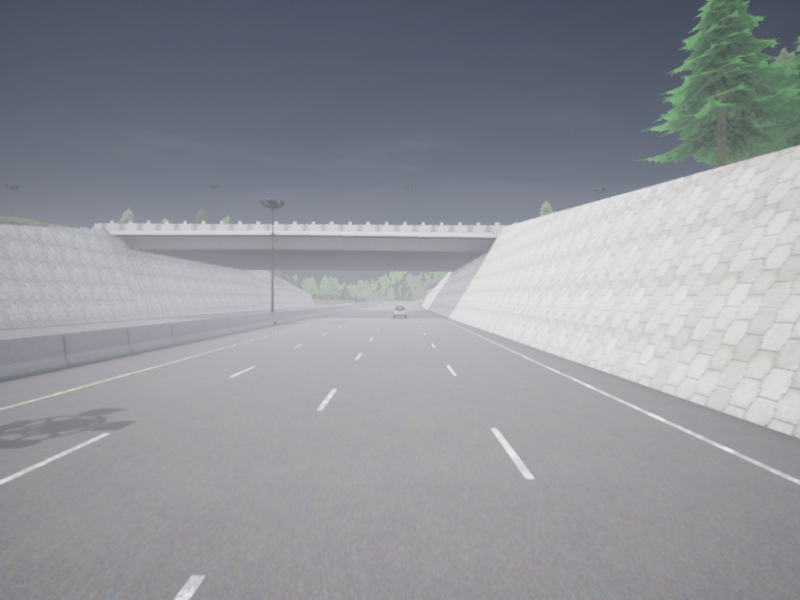vehicle: (393, 306, 406, 317)
